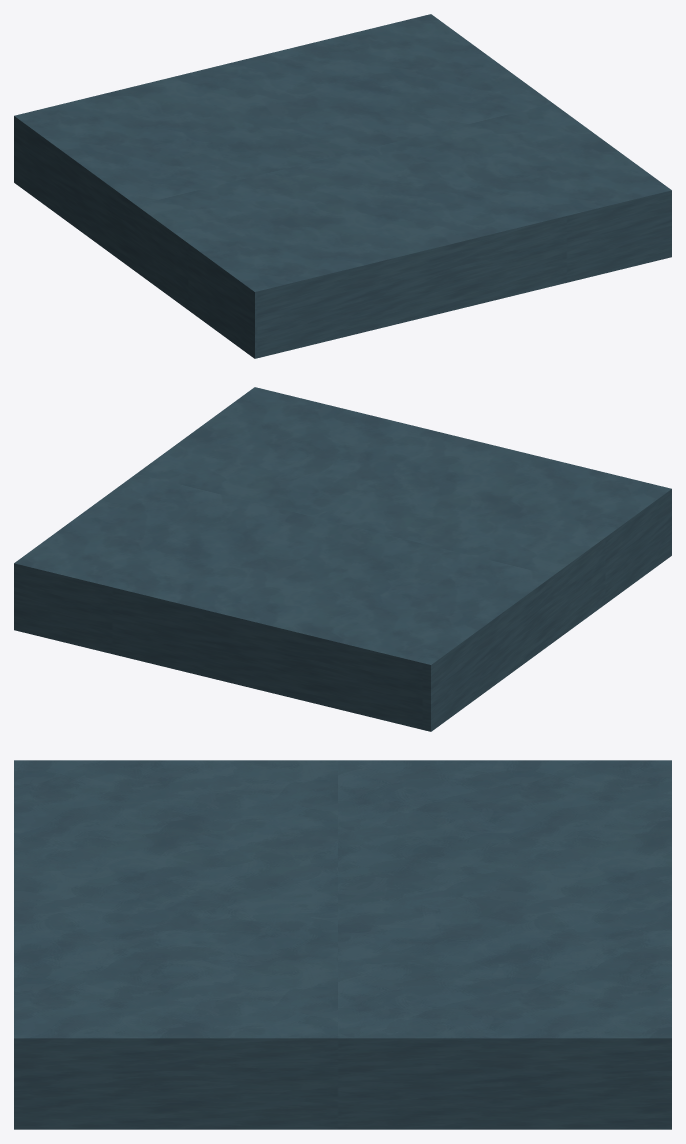
The model's file is water.obj.
3 views of the same model, one above another, from view 1: azimuth 30°, elevation 25°; view 2: azimuth 150°, elevation 25°; view 3: azimuth 270°, elevation 25° (orthographic). The views are drawn at different scales.
Visible parts, largest first — view 1: water_Cube.003; view 2: water_Cube.003; view 3: water_Cube.003.
Part boxes in pixels (<box>): water_Cube.003: <box>14,14,671,358</box>; water_Cube.003: <box>14,387,671,731</box>; water_Cube.003: <box>14,760,671,1129</box>.
Bounding box in the file's own units: 13.06 × 2 × 13.06.
Materials: 1 (1 with a texture image).
